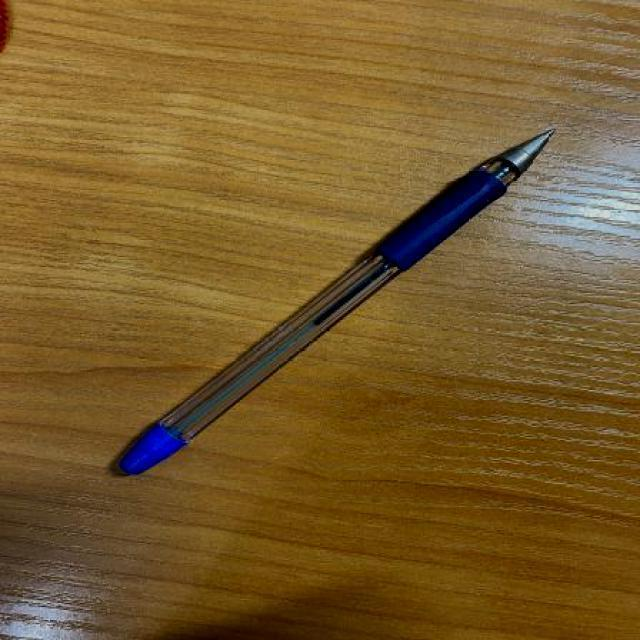Pen - Non Recyclable: (116, 125, 557, 478)
